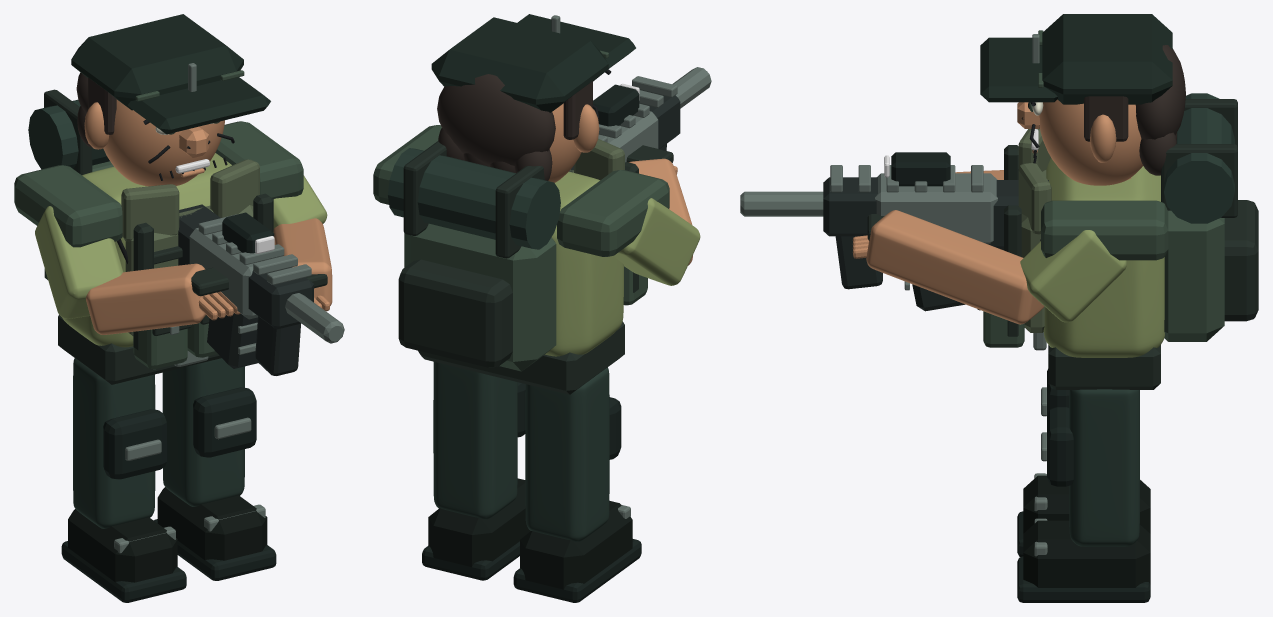
Rendered from survivor.glb.
3 renders of one model, left to right at view 1: azimuth 30°, elevation 25°; view 2: azimuth 150°, elevation 25°; view 3: azimuth 270°, elevation 25°, orthographic. The views are drawn at different scales.
Visible parts, largest first — view 1: Cap, LegL, LegR, ForearmL, DetailShoulderPad, BootL, BootR, ArmL, Head, CapBill, DetailShoulderPad.001, DetailKneePad (+32 smaller); view 2: LegL, LegR, DetailBackpackPocket, Cap, DetailBedroll, Backpack, Torso, DetailBackHair, DetailShoulderPad, BootL, BootR, ArmL (+22 smaller); view 3: LegR, ForearmR, Cap, Torso, Backpack, DetailShoulderPad.001, BootR, DetailBedroll, ArmR, Head, GunReceiver, CapBill (+22 smaller).
Boxes of the visible parts, <box> form: Cap: <box>71,14,243,110</box>; LegL: <box>73,358,155,528</box>; LegR: <box>162,358,244,506</box>; ForearmL: <box>86,263,209,334</box>; DetailShoulderPad: <box>14,165,122,247</box>; BootL: <box>68,509,177,582</box>; BootR: <box>157,487,267,560</box>; ArmL: <box>35,206,123,318</box>; Head: <box>103,99,224,186</box>; CapBill: <box>127,77,270,134</box>; DetailShoulderPad.001: <box>215,121,303,199</box>; DetailKneePad: <box>103,409,166,479</box>; LegL: <box>525,367,609,542</box>; LegR: <box>433,362,517,519</box>; DetailBackpackPocket: <box>398,259,512,367</box>; Cap: <box>431,17,608,112</box>; DetailBedroll: <box>388,148,560,249</box>; Backpack: <box>404,223,556,371</box>; Torso: <box>545,171,623,356</box>; DetailBackHair: <box>437,74,555,166</box>; DetailShoulderPad: <box>557,170,669,256</box>; BootL: <box>520,500,632,589</box>; BootR: <box>428,478,530,566</box>; ArmL: <box>613,198,700,285</box>; LegR: <box>1069,389,1139,546</box>; ForearmR: <box>866,210,1044,324</box>; Cap: <box>1042,14,1172,104</box>; Torso: <box>1043,158,1164,357</box>; Backpack: <box>1164,210,1224,341</box>; DetailShoulderPad.001: <box>1041,200,1168,260</box>; BootR: <box>1023,520,1150,587</box>; DetailBedroll: <box>1164,93,1234,223</box>; ArmR: <box>1020,230,1126,322</box>; Head: <box>1039,99,1143,185</box>; GunReceiver: <box>875,173,997,243</box>; CapBill: <box>980,37,1057,102</box>.
Size of the model in its own units: 1.07 by 1.98 by 1.75.
